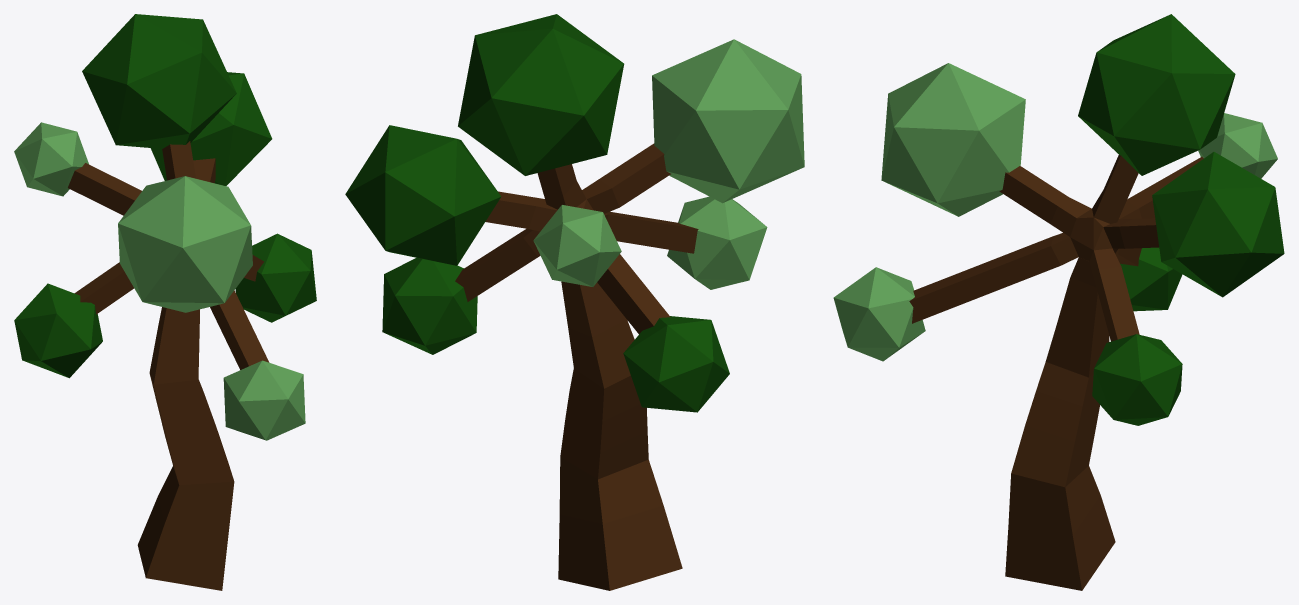
File: tree2.fbx
3 renders of one model, left to right at view 1: azimuth 30°, elevation 25°; view 2: azimuth 150°, elevation 25°; view 3: azimuth 270°, elevation 25°, orthographic. The views are drawn at different scales.
Parts seen in each view (by area): view 1: Cube, Icosphere.005, Icosphere.006, Icosphere.002, Icosphere, Icosphere.004, Icosphere.001, Icosphere.003; view 2: Cube, Icosphere.005, Icosphere.006, Icosphere.004, Icosphere.002, Icosphere.001, Icosphere, Icosphere.003; view 3: Cube, Icosphere.005, Icosphere.006, Icosphere.004, Icosphere.001, Icosphere, Icosphere.003, Icosphere.002.
Part boxes in pixels (<box>): Cube: <box>68,141,269,590</box>; Icosphere.005: <box>82,14,236,148</box>; Icosphere.006: <box>118,176,252,312</box>; Icosphere.002: <box>14,283,102,378</box>; Icosphere: <box>223,360,305,440</box>; Icosphere.004: <box>150,72,272,185</box>; Icosphere.001: <box>235,233,316,322</box>; Icosphere.003: <box>14,122,88,196</box>; Cube: <box>455,143,698,590</box>; Icosphere.005: <box>458,14,624,175</box>; Icosphere.006: <box>652,39,804,203</box>; Icosphere.004: <box>345,125,501,265</box>; Icosphere.002: <box>623,316,729,412</box>; Icosphere.001: <box>382,257,477,354</box>; Icosphere: <box>667,196,767,289</box>; Icosphere.003: <box>533,205,621,286</box>; Cube: <box>909,155,1203,590</box>; Icosphere.005: <box>1078,14,1235,175</box>; Icosphere.006: <box>881,63,1025,216</box>; Icosphere.004: <box>1152,152,1284,297</box>; Icosphere.001: <box>1092,334,1182,425</box>; Icosphere: <box>833,267,925,361</box>; Icosphere.003: <box>1198,113,1277,178</box>; Icosphere.002: <box>1120,247,1182,311</box>.
Size of the model in its own units: 864 by 1471 by 1078.
